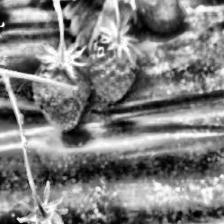Gray Mold: (16, 180, 69, 224)
